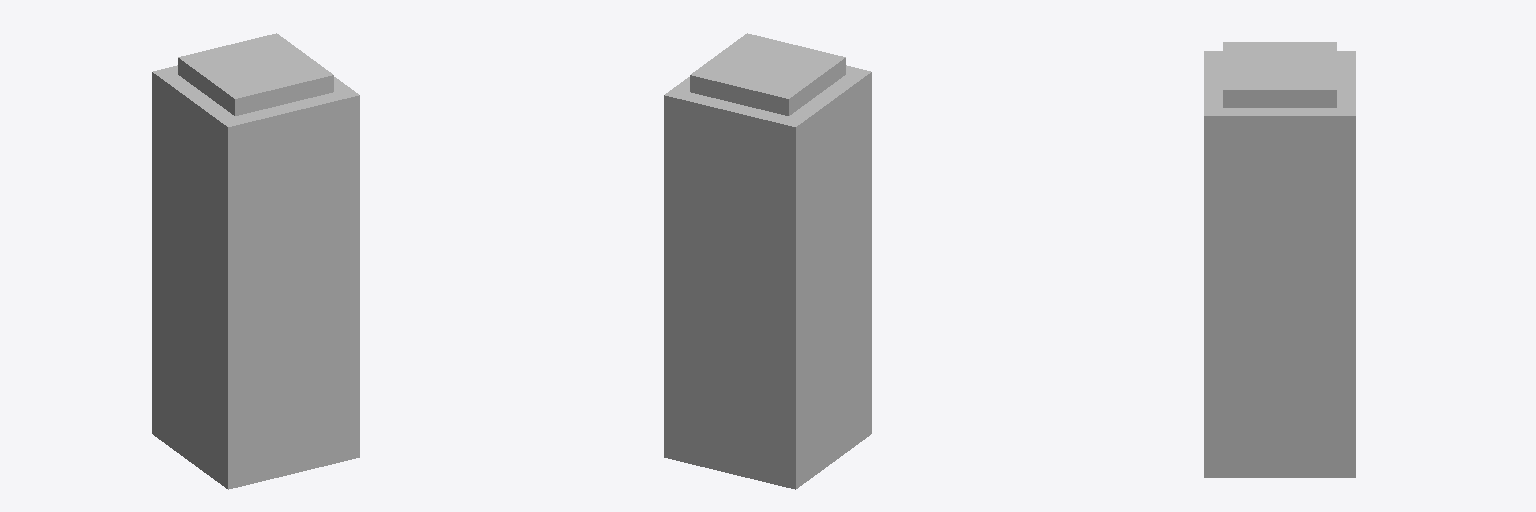
File: Stone Fence Pole.obj
The picture shows the model from 3 angles: view 1: azimuth 30°, elevation 25°; view 2: azimuth 150°, elevation 25°; view 3: azimuth 270°, elevation 25°; orthographic projection.
Parts seen in each view (by area): view 1: object 1; view 2: object 1; view 3: object 1.
Boxes of the visible parts, <box> form: object 1: <box>152,33,359,489</box>; object 1: <box>664,33,871,489</box>; object 1: <box>1204,42,1355,477</box>.
Bounding box in the file's own units: 0.8 × 2.2 × 0.8.